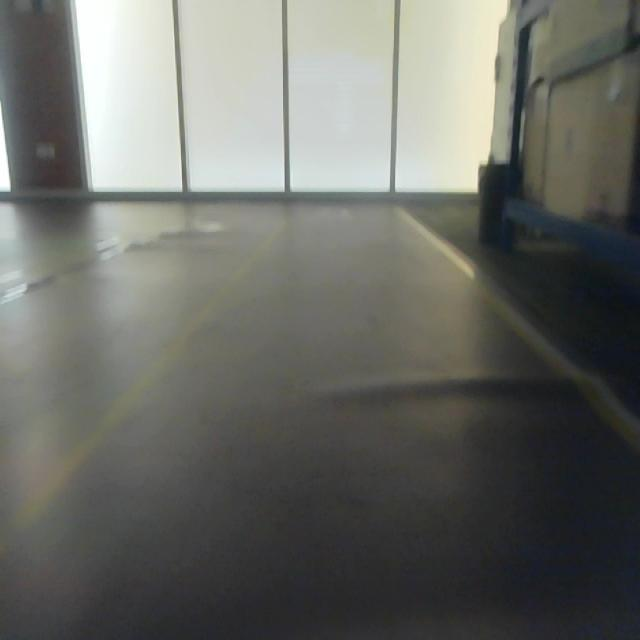left_lane: (0, 225, 290, 561)
right_lane: (398, 210, 640, 451)
